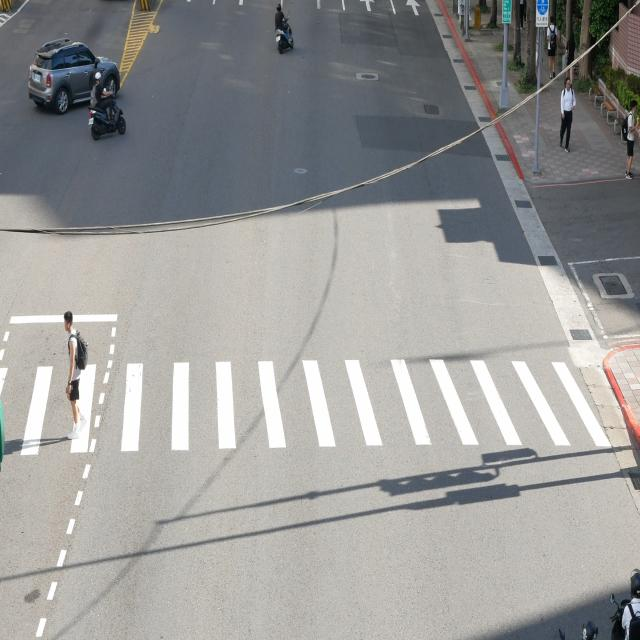pedestrian: (65, 315, 80, 431), (68, 353, 80, 401), (69, 334, 77, 346)
